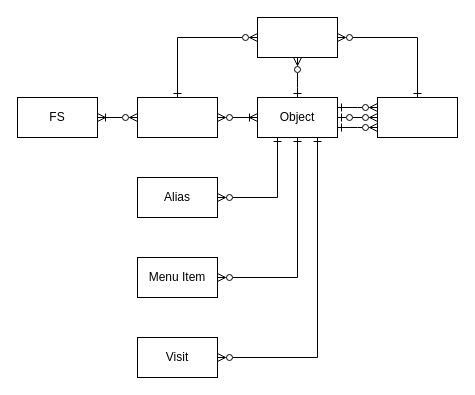
Some shapes in this 475 by 395 pixel diagram are drawn without their labels. The shapes that lost their labels are listed below. From the top down, each one's centre as x and y in pixels, then its label:
At (x=297, y=37): "Setting".
At (x=177, y=117): "File".
At (x=417, y=117): "Link".
